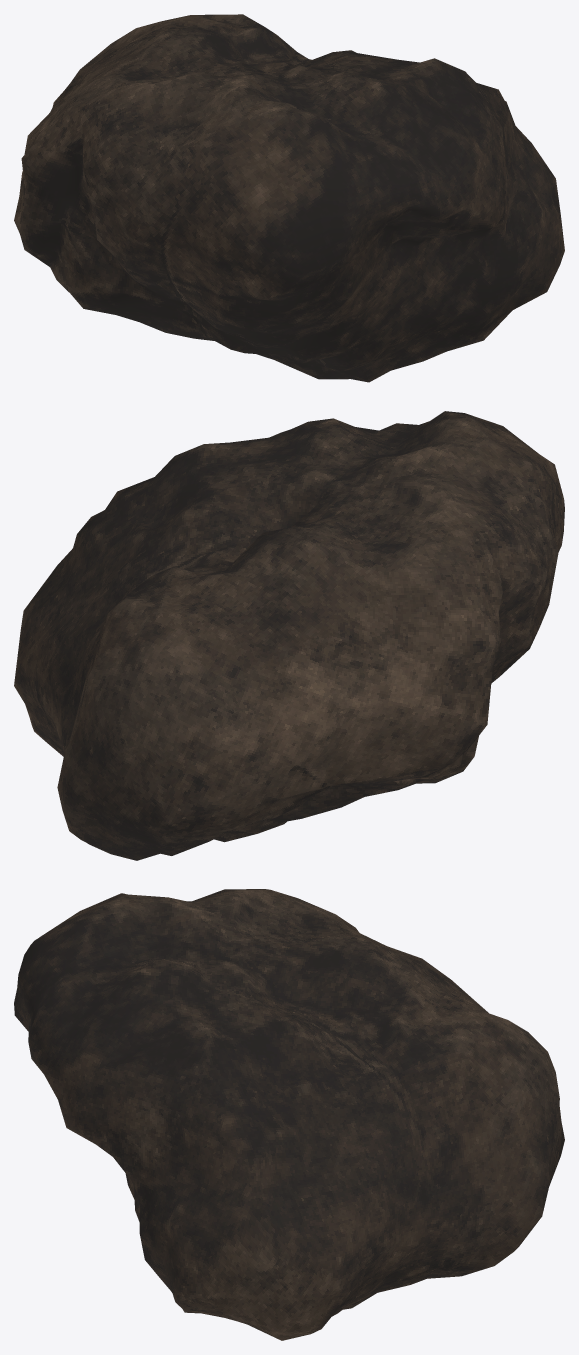
Rendered from SM_RP2_Rock_8m_0.002.glb.
The picture shows the model from 3 angles, top to bottom: view 1: azimuth 30°, elevation 25°; view 2: azimuth 150°, elevation 25°; view 3: azimuth 270°, elevation 25°; orthographic projection. The views are drawn at different scales.
Visible parts, largest first — view 1: SM_RP2_Rock_8m_0.002; view 2: SM_RP2_Rock_8m_0.002; view 3: SM_RP2_Rock_8m_0.002.
Boxes of the visible parts, <box> form: SM_RP2_Rock_8m_0.002: <box>14,14,564,382</box>; SM_RP2_Rock_8m_0.002: <box>14,411,564,860</box>; SM_RP2_Rock_8m_0.002: <box>14,889,564,1340</box>.
Bounding box in the file's own units: 13.95 × 9.69 × 14.43.
Materials: 1 (1 with a texture image).
